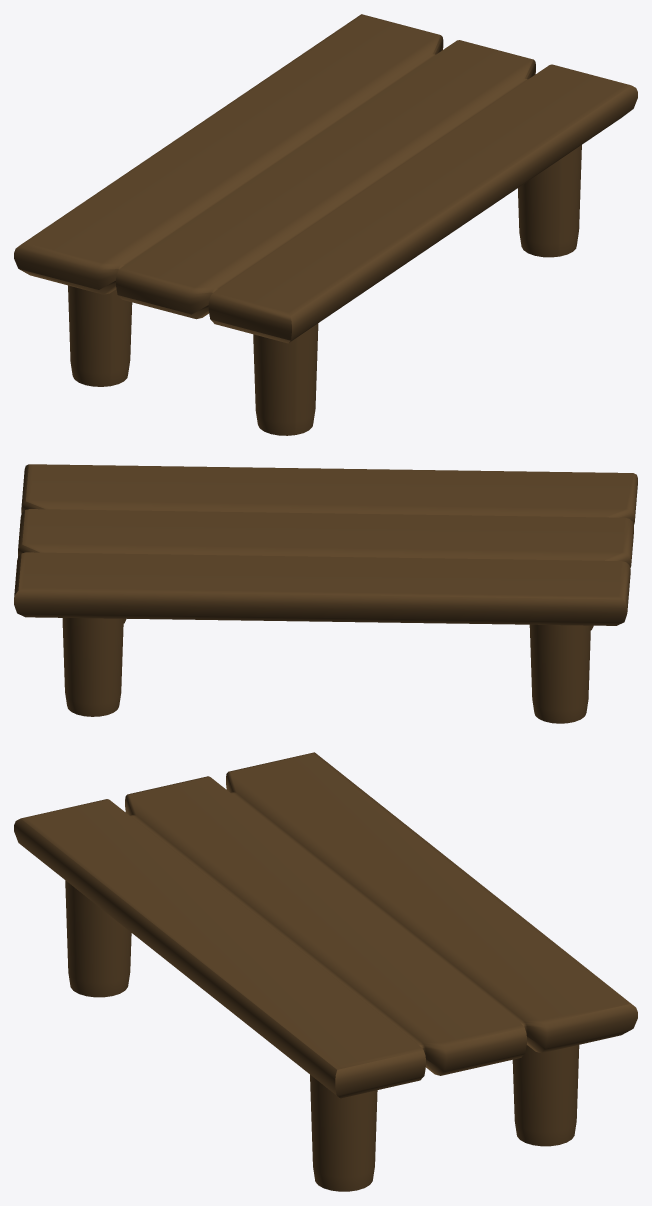
File: Table.fbx
3 views of the same model, one above another, from view 1: azimuth 30°, elevation 25°; view 2: azimuth 150°, elevation 25°; view 3: azimuth 270°, elevation 25° (orthographic). The views are drawn at different scales.
Visible parts, largest first — view 1: pasted__pPlane1, pasted__pCylinder3, pasted__pCylinder4, pasted__pCylinder2; view 2: pasted__pPlane1, pasted__pCylinder1, pasted__pCylinder4; view 3: pasted__pPlane1, pasted__pCylinder2, pasted__pCylinder1, pasted__pCylinder3.
Part boxes in pixels (x1=…): pasted__pPlane1: x1=14, y1=14, x2=637, y2=343; pasted__pCylinder3: x1=253, y1=323, x2=318, y2=435; pasted__pCylinder4: x1=68, y1=285, x2=132, y2=386; pasted__pCylinder2: x1=518, y1=145, x2=581, y2=257; pasted__pPlane1: x1=14, y1=464, x2=637, y2=625; pasted__pCylinder1: x1=62, y1=618, x2=123, y2=716; pasted__pCylinder4: x1=529, y1=624, x2=590, y2=723; pasted__pPlane1: x1=14, y1=752, x2=637, y2=1098; pasted__pCylinder2: x1=310, y1=1075, x2=377, y2=1191; pasted__pCylinder1: x1=512, y1=1045, x2=579, y2=1146; pasted__pCylinder3: x1=65, y1=880, x2=131, y2=997.
Bounding box in the file's own units: 24.23 × 5.34 × 19.77.
